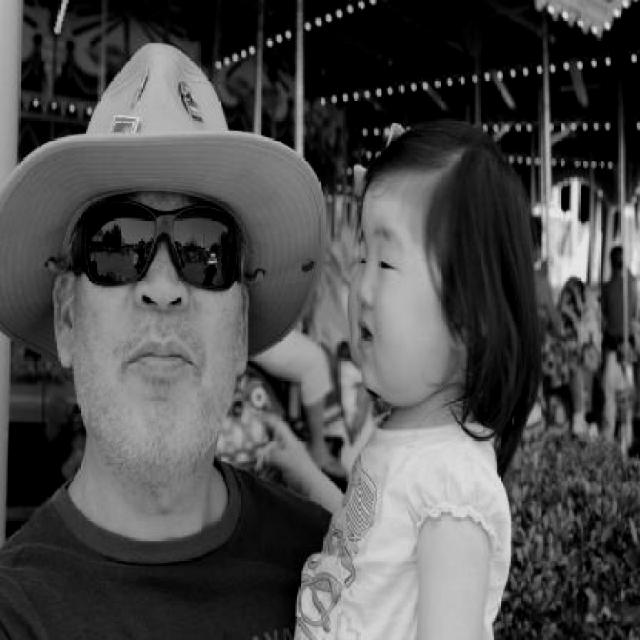face_nomask: (73, 208, 236, 395), (345, 220, 410, 372)
glasses: (52, 194, 268, 298)
hand_noglove: (243, 406, 328, 497)
head_nohelmet: (35, 64, 267, 214), (362, 122, 512, 206)
